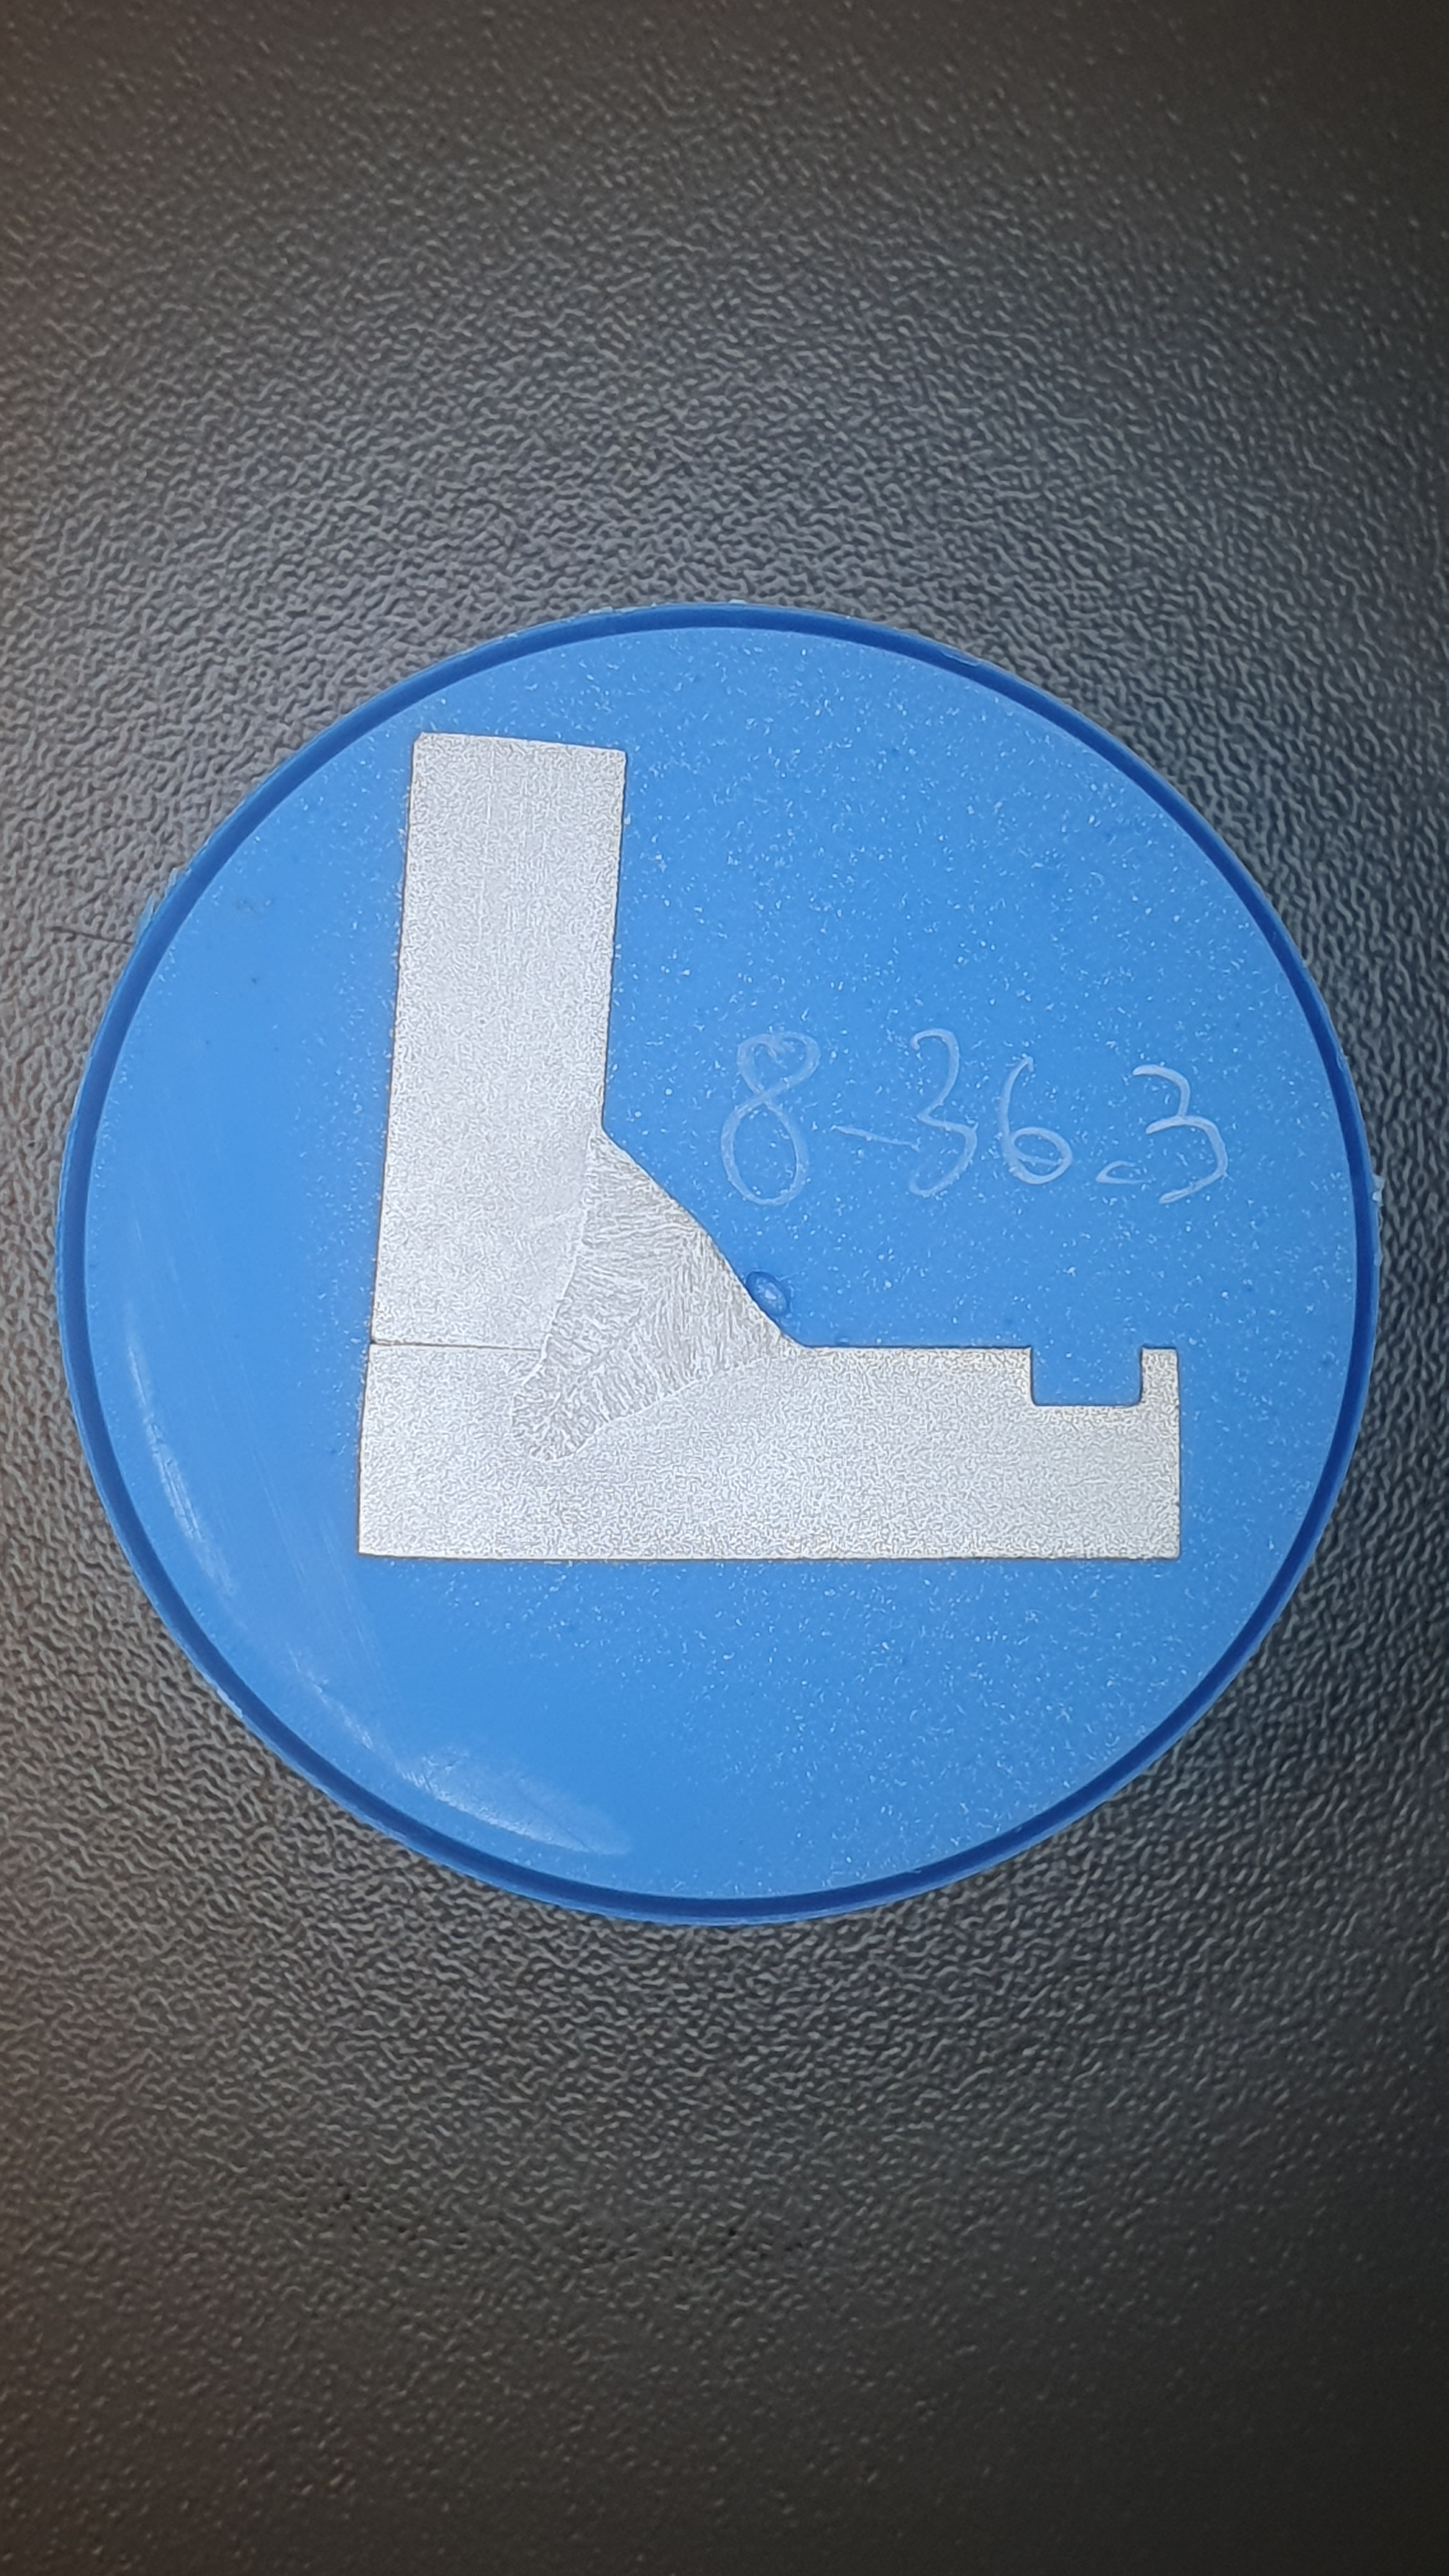Fusion: (510, 1123, 810, 1461)
Hintergrund: (87, 628, 1355, 1897)
Metall: (357, 731, 1180, 1560)
Nebenbereich: (474, 1093, 816, 1490)
